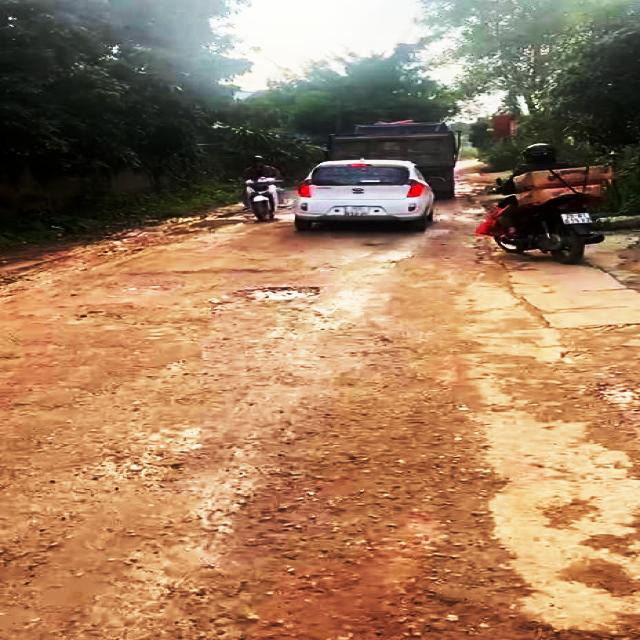pothole: (229, 284, 324, 305)
